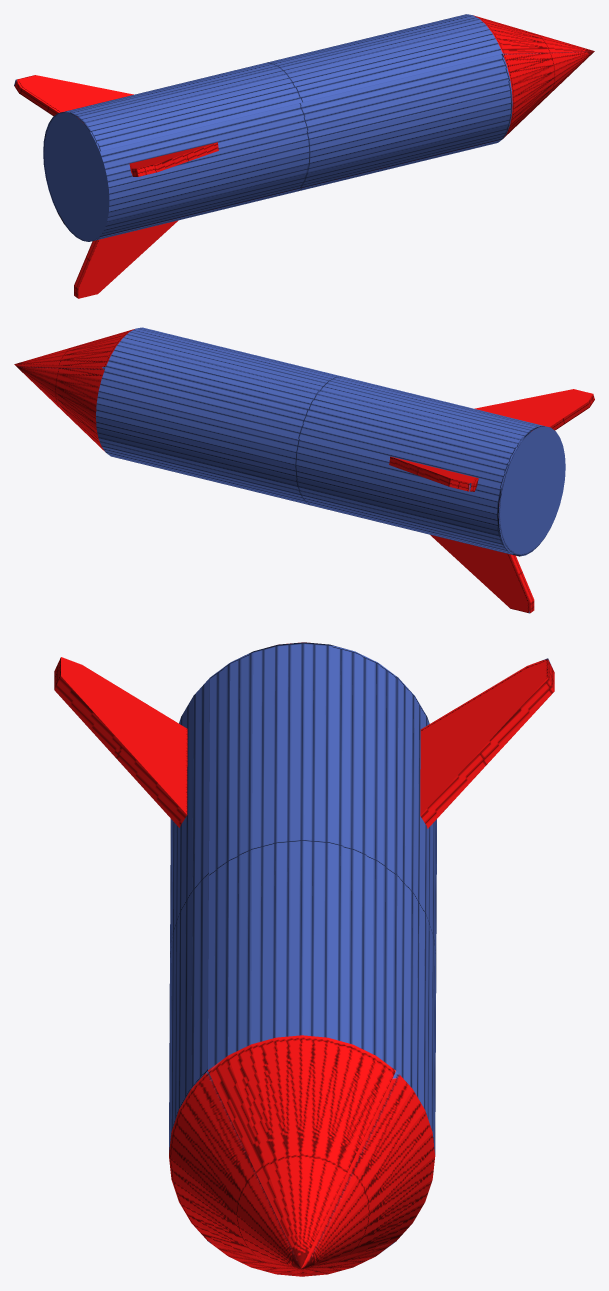
Rendered from rocket.obj.
The picture shows the model from 3 angles, top to bottom: view 1: azimuth 30°, elevation 25°; view 2: azimuth 150°, elevation 25°; view 3: azimuth 270°, elevation 25°; orthographic projection. The views are drawn at different scales.
Parts seen in each view (by area): view 1: Cylinder; view 2: Cylinder; view 3: Cylinder.
Boxes of the visible parts, x1,y1,x2,y2 form: Cylinder: [14, 14, 594, 298]; Cylinder: [14, 327, 594, 613]; Cylinder: [54, 642, 554, 1276].
Bounding box in the file's own units: 0.5015 × 0.1671 × 0.2096.
Materials: 1 (1 with a texture image).
